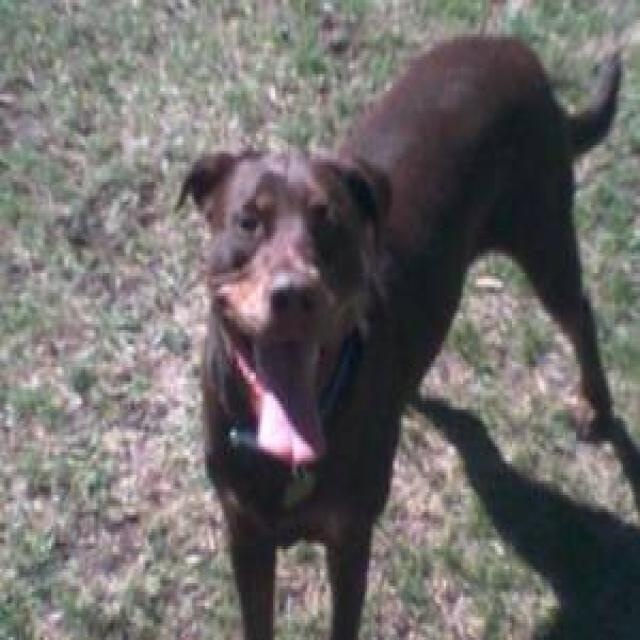dog-american_pit_bull_terrier: (166, 20, 631, 634)
